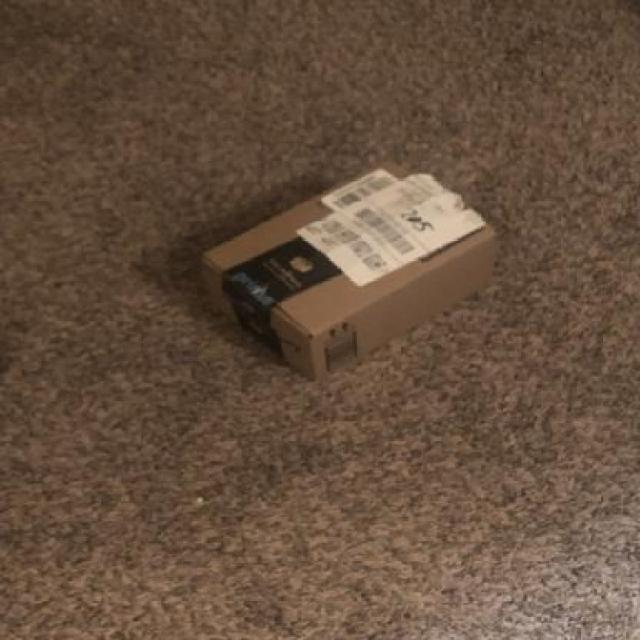cardboxes: (150, 143, 557, 411)
